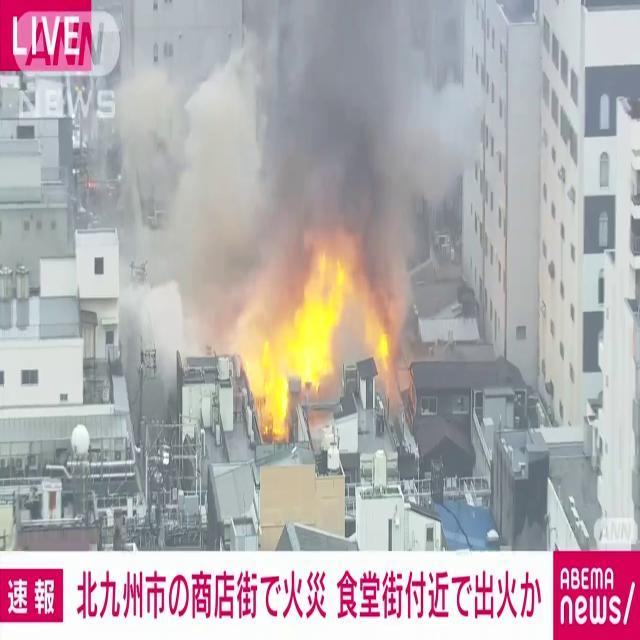Fire: (234, 234, 392, 436)
Smoke: (119, 0, 469, 304)
